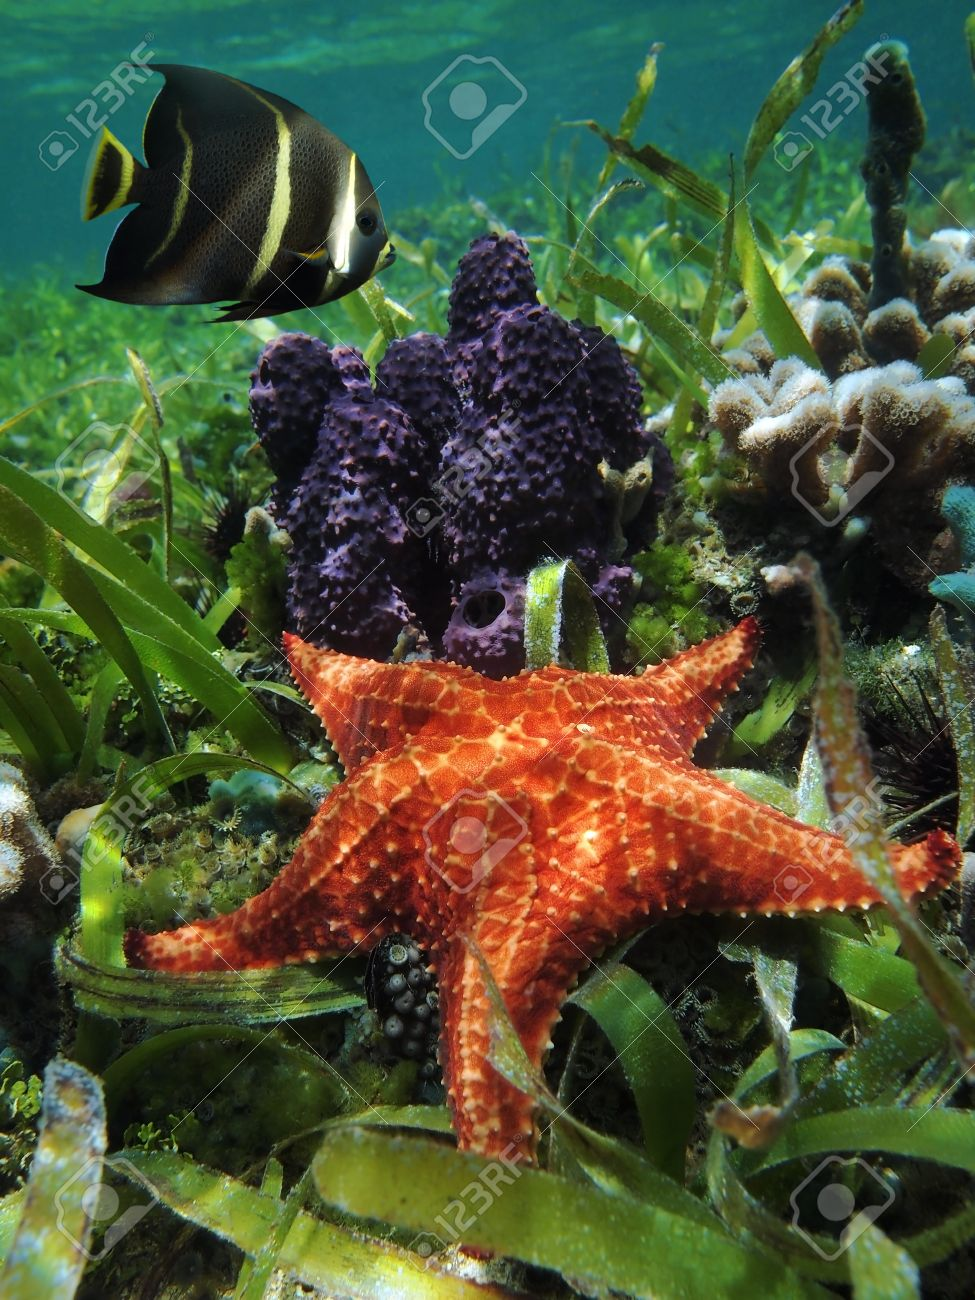fish: (65, 48, 425, 319)
starfish: (174, 598, 904, 1115)
